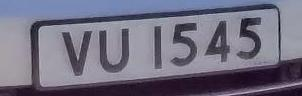1: (143, 19, 173, 73)
4: (200, 14, 236, 67)
5: (166, 16, 204, 71), (234, 12, 266, 66)
U: (94, 22, 135, 78)
V: (54, 28, 96, 82)
